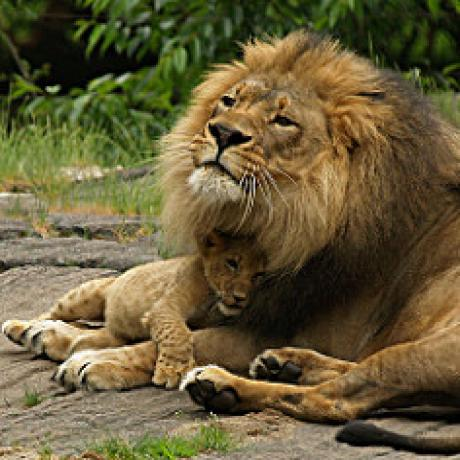Lion: (167, 25, 460, 456), (49, 231, 272, 340)
